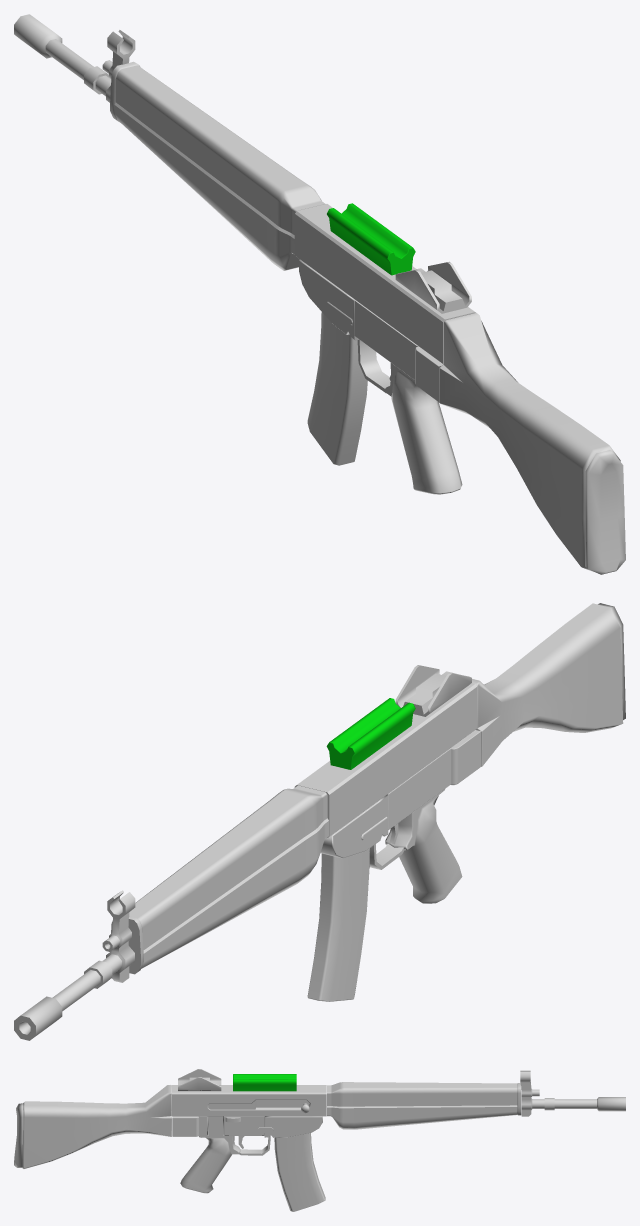
The model's file is rifle.fbx.
3 views of the same model, one above another, from view 1: azimuth 30°, elevation 25°; view 2: azimuth 150°, elevation 25°; view 3: azimuth 270°, elevation 25° (orthographic). The views are drawn at different scales.
Parts seen in each view (by area): view 1: body, mag; view 2: body, mag; view 3: body, mag.
Boxes of the visible parts, x1,y1,x2,y2 form: body: (14, 14, 625, 574); mag: (307, 312, 367, 465); body: (14, 603, 625, 1040); mag: (307, 848, 369, 1001); body: (14, 1069, 625, 1193); mag: (274, 1133, 325, 1211).
Size of the model in its own units: 4.45 by 23.92 by 95.91.
